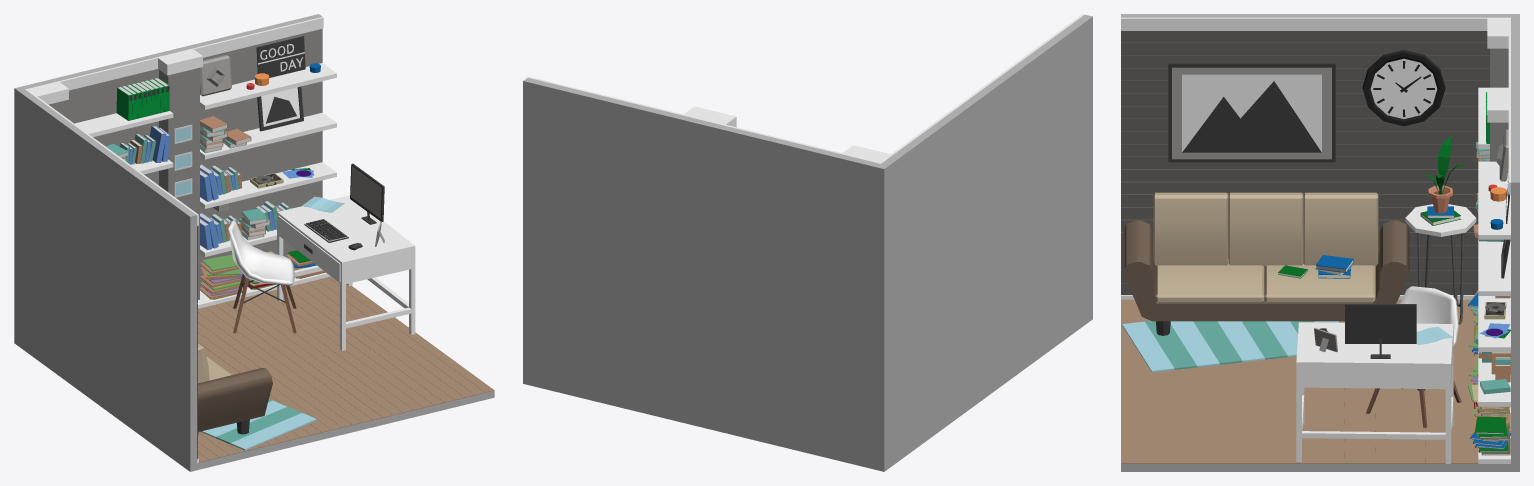
The model's file is OfficeRoom.glb.
3 views of the same model, side by side, from view 1: azimuth 30°, elevation 25°; view 2: azimuth 150°, elevation 25°; view 3: azimuth 270°, elevation 25° (orthographic). The views are drawn at different scales.
Parts seen in each view (by area): view 1: Office2_base, Office2_parquet1, Office2_table, Office2_shelves, Office2_sofa, Office2_chair, Office2_carpet, Office2_Books5, Office2_Photoframe_4, Office2_decoration1, Office2_magazines1, Office2_monitor1 (+8 smaller); view 2: Office2_base; view 3: Office2_parquet2, Office2_sofa, Office2_parquet1, Office2_base, Office2_picture, Office2_table, Office2_carpet, Office2_shelves, Office2_clock_1, Office2_monitor1, Office2_little_table, Office2_chair (+9 smaller).
Boxes of the visible parts, left/top/right/bottom form: Office2_base: left=14, top=14, right=494, bottom=471; Office2_parquet1: left=198, top=276, right=494, bottom=462; Office2_table: left=277, top=195, right=415, bottom=350; Office2_shelves: left=74, top=63, right=336, bottom=308; Office2_sofa: left=197, top=343, right=272, bottom=435; Office2_chair: left=227, top=220, right=296, bottom=333; Office2_carpet: left=200, top=399, right=316, bottom=450; Office2_Books5: left=116, top=77, right=169, bottom=120; Office2_Photoframe_4: left=257, top=86, right=303, bottom=131; Office2_decoration1: left=256, top=36, right=305, bottom=77; Office2_magazines1: left=200, top=254, right=242, bottom=299; Office2_monitor1: left=350, top=163, right=384, bottom=224; Office2_base: left=523, top=14, right=1092, bottom=471; Office2_parquet2: left=1121, top=31, right=1489, bottom=294; Office2_sofa: left=1123, top=192, right=1409, bottom=335; Office2_parquet1: left=1121, top=299, right=1478, bottom=463; Office2_base: left=1121, top=14, right=1519, bottom=471; Office2_picture: left=1168, top=63, right=1335, bottom=162; Office2_table: left=1296, top=322, right=1453, bottom=463; Office2_carpet: left=1122, top=321, right=1338, bottom=372; Office2_shelves: left=1478, top=87, right=1510, bottom=463; Office2_clock_1: left=1362, top=50, right=1445, bottom=126; Office2_monitor1: left=1345, top=304, right=1416, bottom=358; Office2_little_table: left=1405, top=204, right=1476, bottom=324; Office2_chair: left=1366, top=286, right=1461, bottom=427.
Size of the model in its own units: 5.02 by 4.01 by 5.
1 material, 1 textured.
